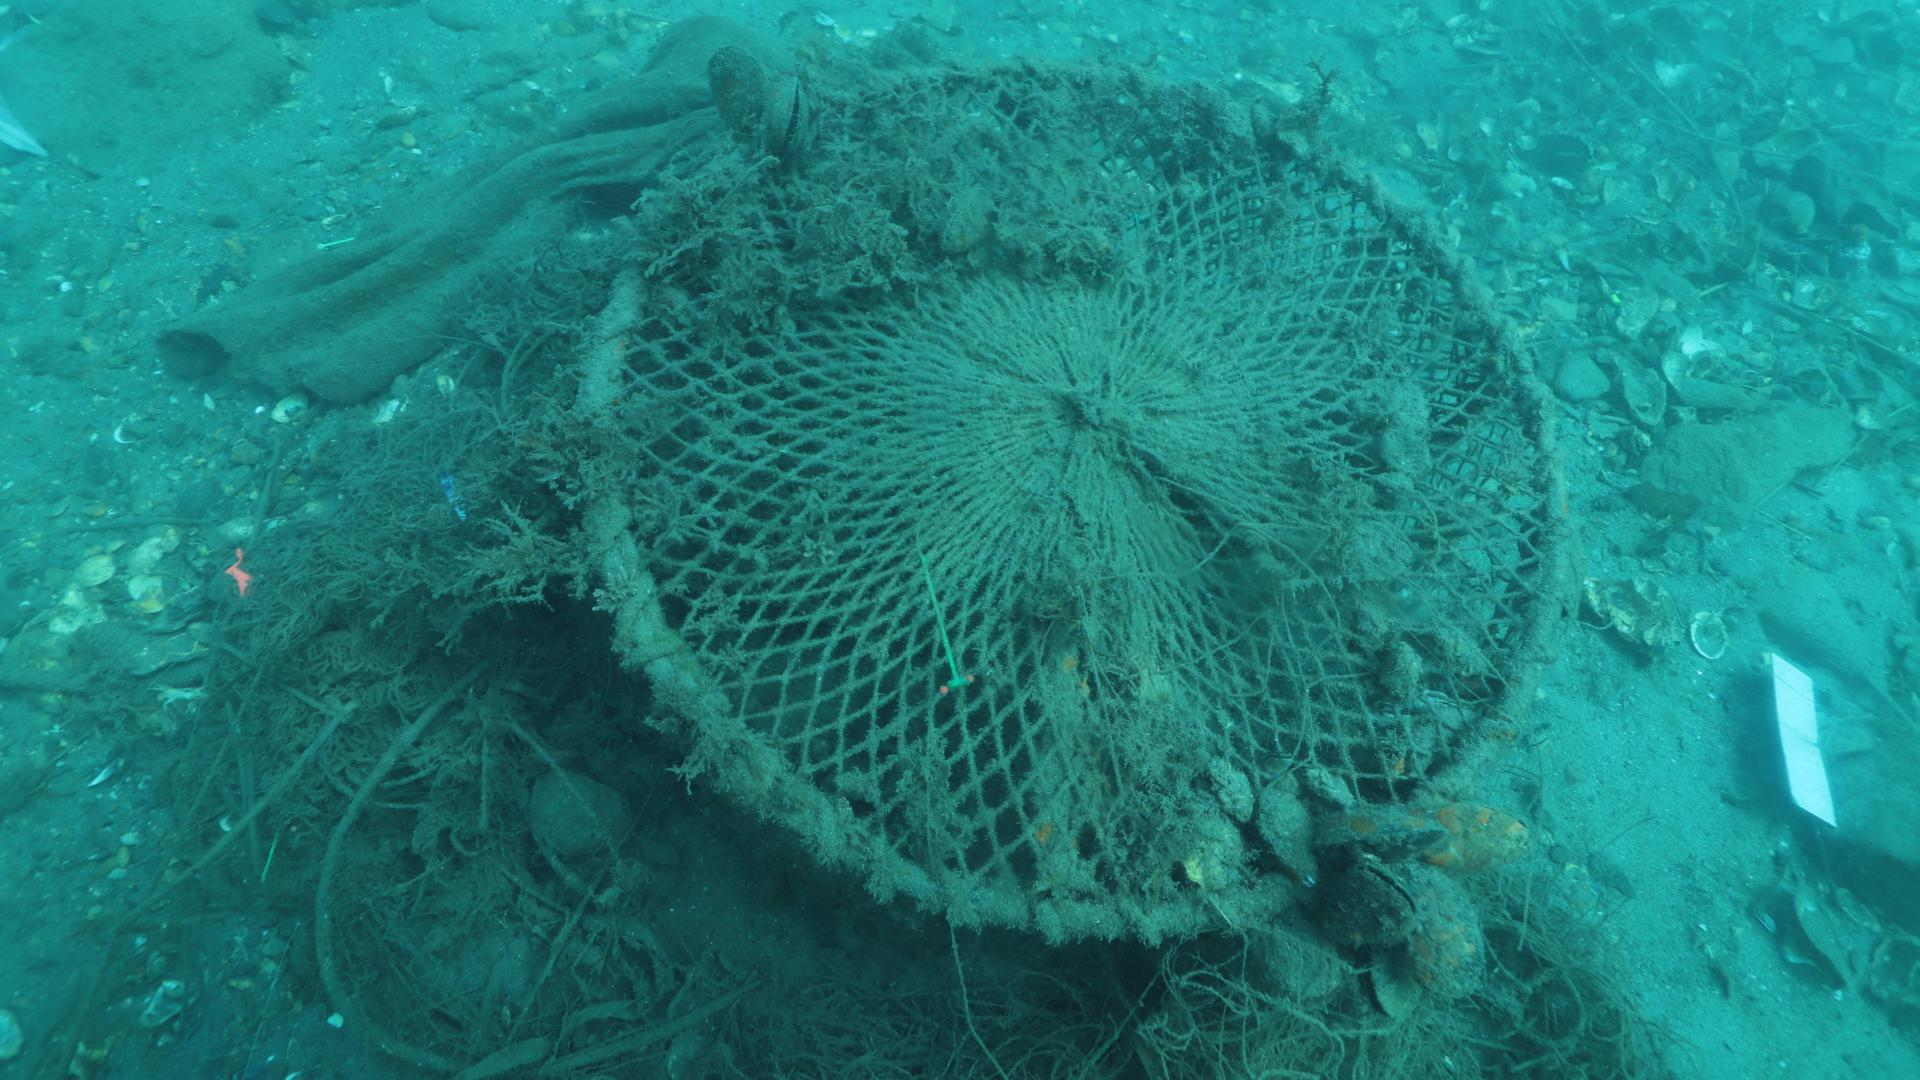circular fish trap: (560, 59, 1590, 949)
